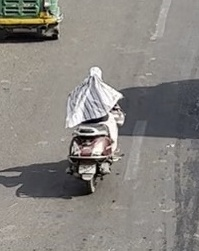BikeWithRider: (59, 61, 130, 195)
NoHelmet: (81, 63, 107, 88)
